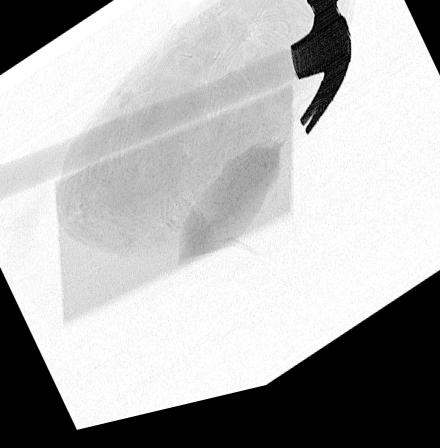Hammer: (0, 0, 351, 201)
